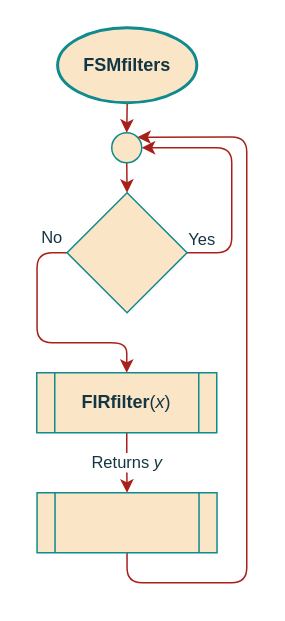
This 285x621 diagram has some shape labels left out. Here are the shapes that lost their labels. From the top down, the box of each, then its label:
(66, 191, 187, 313): EOC= 0 ?
(36, 491, 217, 553): SendToHDMI ( y )
